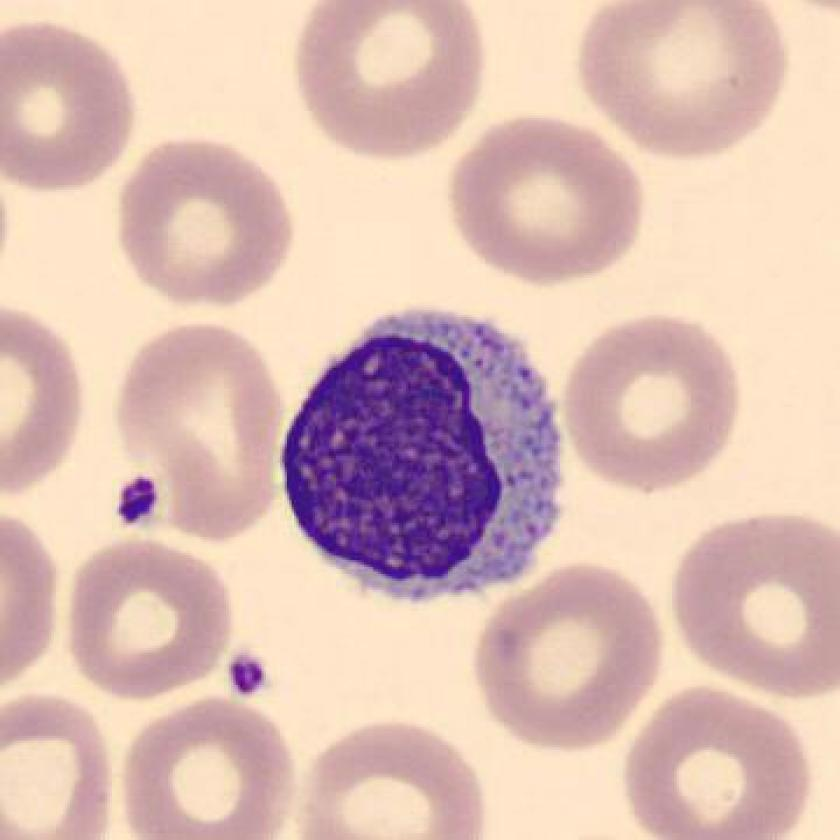lymphocyte: (267, 290, 580, 617)
